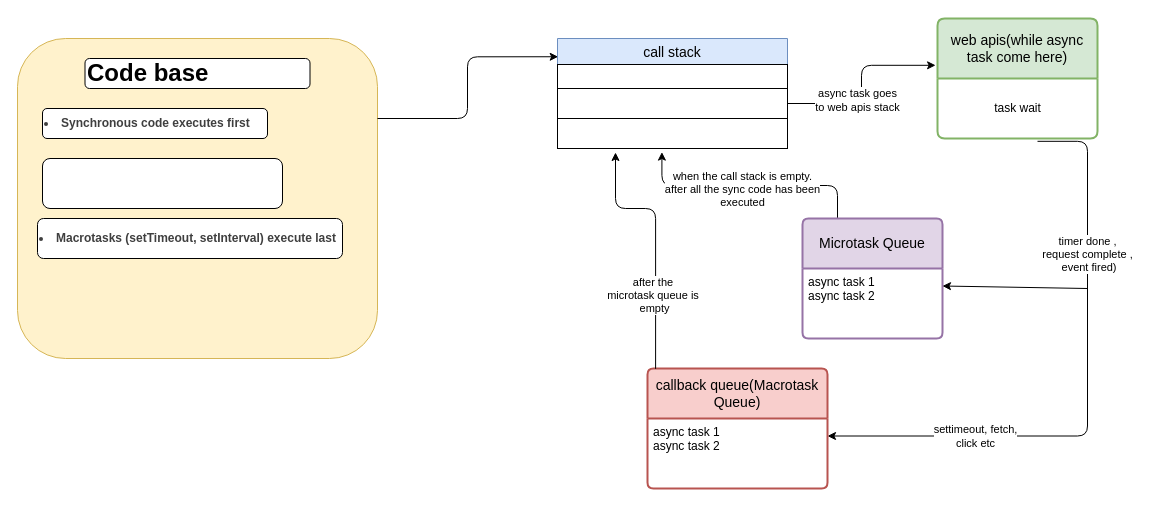
Image size: 1150x506. Some labels were removed from this diagram. The shapes that lost their labels are listed below. From the top down, each one's centre as x and y in pixels, then its label:
the point at 672,76: sync task executes here only
the point at 672,103: Microtask
the point at 672,133: Macrotask
the point at 162,183: Microtasks (promises) execute next
